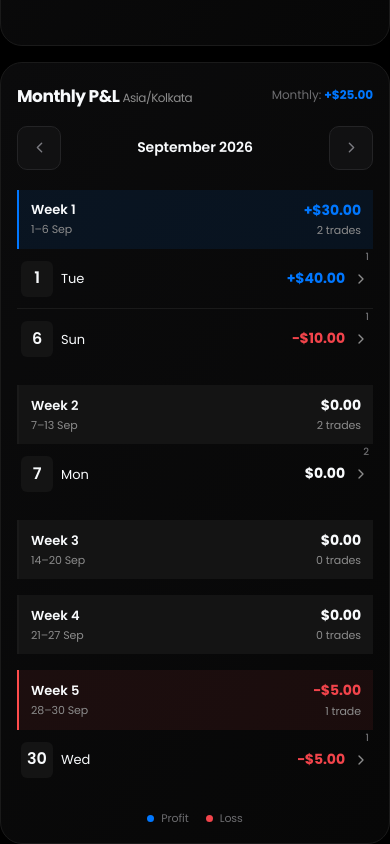
Test case: Dashboard calendar views › shares Monday-based weekly totals, retains zero-P&L traded days, and skips untraded days
(page scrolled)
Expected: the text "+$30.00" is shown, [304,200,361,220]
Expected: the text "2 trades" below "+$30.00" is shown, [317,222,361,238]
Click the button with aria-label "September 2026 7,": [37, 474] box [17,444,373,504]
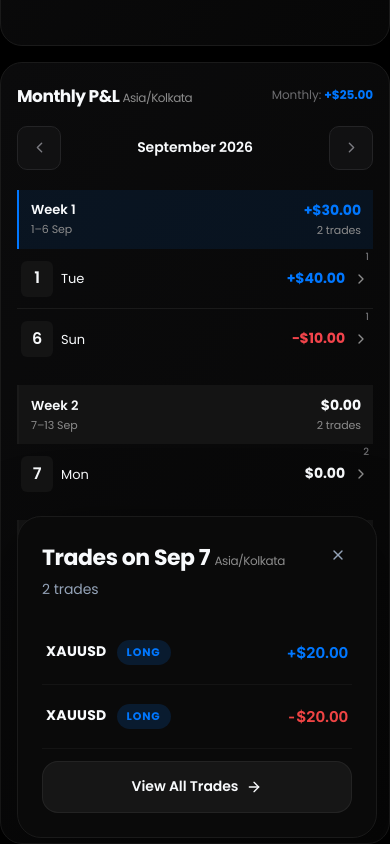
Result: the dialog "Trades on Sep 7" shows "2 trades" at [17,516,377,838]
